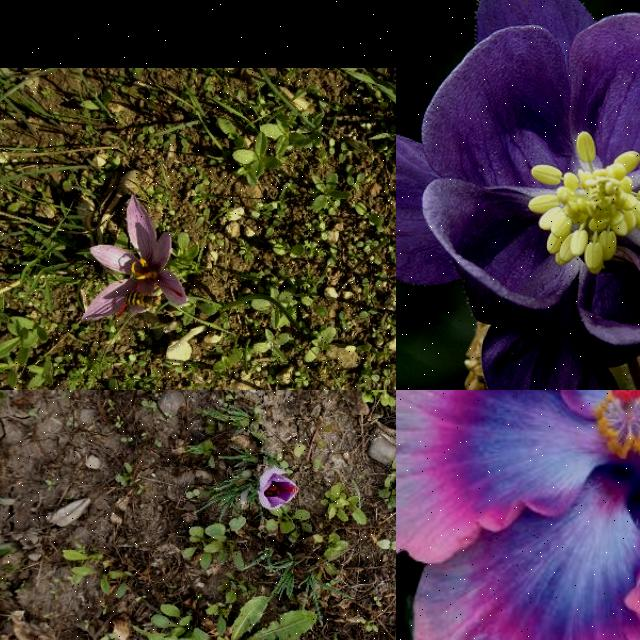flower: (80, 196, 186, 324), (257, 466, 301, 510)
